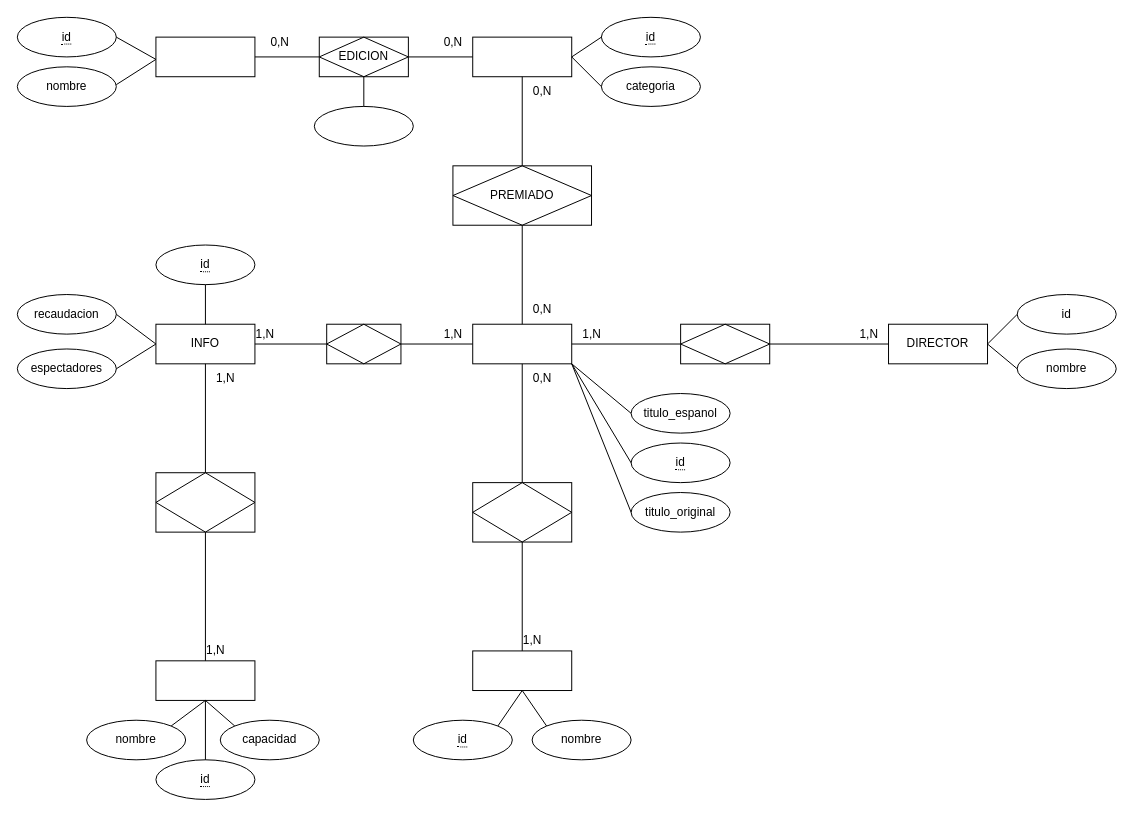
Some shapes in this 1134 by 817 pixel diagram are drawn without their labels. The shapes that lost their labels are listed below. From the top down, each one's centre as x and y in pixels, then its label:
At (205,56): "FESTIVAL".
At (522,56): "PREMIO".
At (363,125): "anio".
At (363,343): "TIENE".
At (522,343): "PELICULA".
At (725,343): "DIRIGE".
At (205,502): "GENERA".
At (522,512): "HACE".
At (205,680): "CINE".
At (522,670): "ACTOR".
